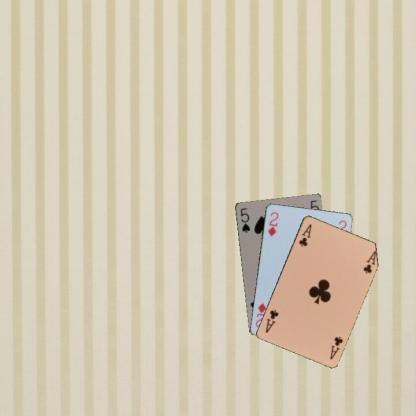2d: (265, 209, 280, 238)
5s: (238, 205, 250, 234)
Ac: (326, 334, 344, 361), (296, 221, 312, 248)
